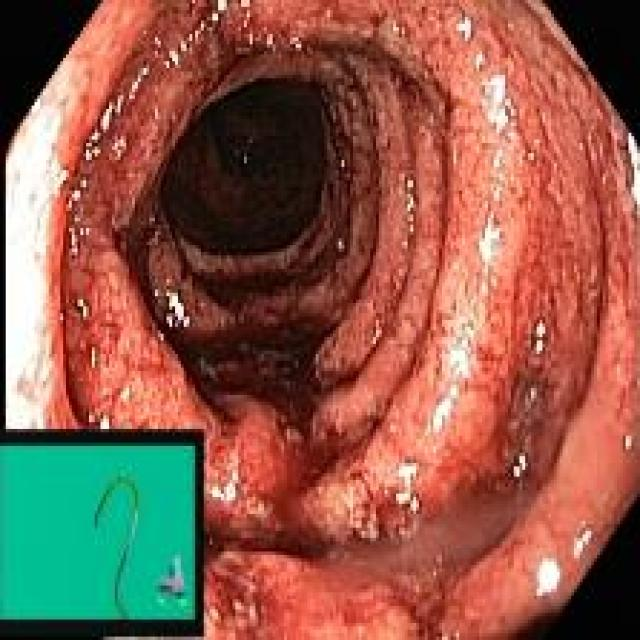ulcerative-colitis-grade-3: (8, 0, 640, 640)
